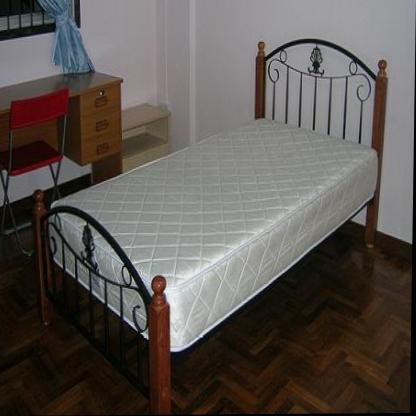Bed: (29, 40, 390, 416)
Chair: (0, 85, 71, 257)
Table: (0, 70, 123, 182)
